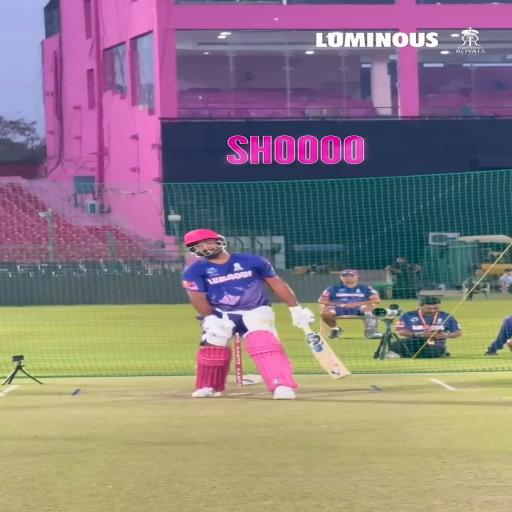Cricket bat: (302, 324, 351, 379)
